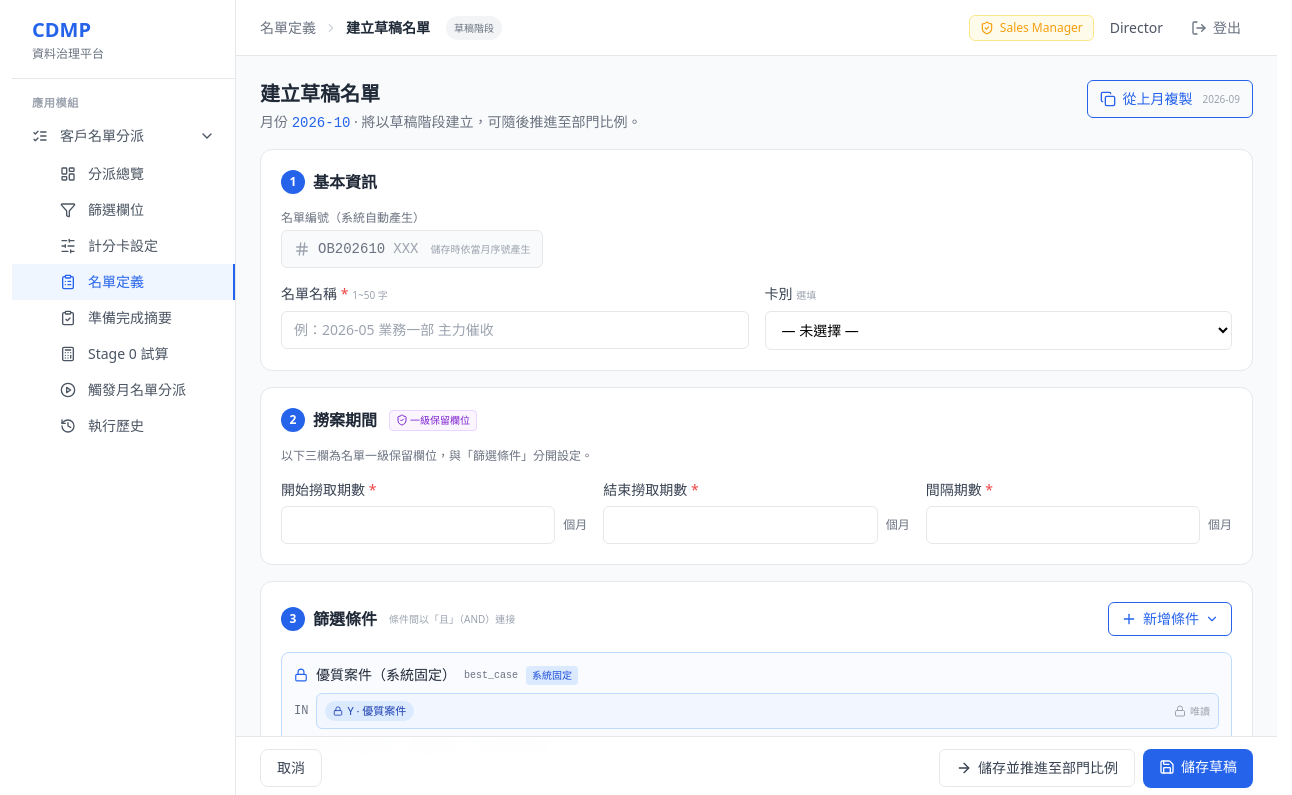
Test case: ListCreateDraftPage v2.1 (Phase 5d 波 8) › lc.test#3: 點「新增條件」開 dropdown → 來源 listFields({active:true})；list_period_* 不出現
Click the button with test id "btn-add-condition". click: (1170, 619)
box: x1=1108 y1=602 x2=1232 y2=636
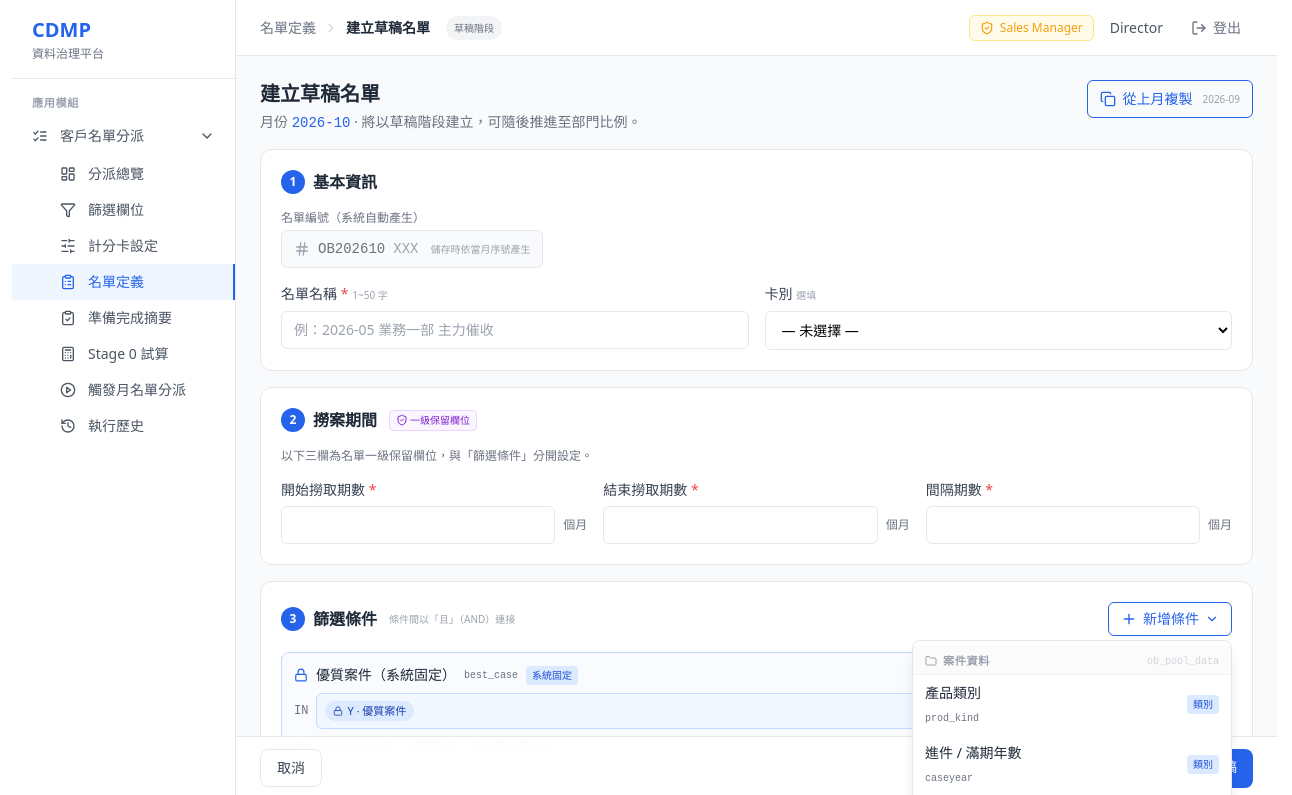
Expected: the text "產品類別" is shown, x1=925 y1=683 x2=981 y2=702
Expected: the text "進件 / 滿期年數" is shown, x1=925 y1=743 x2=1022 y2=762
